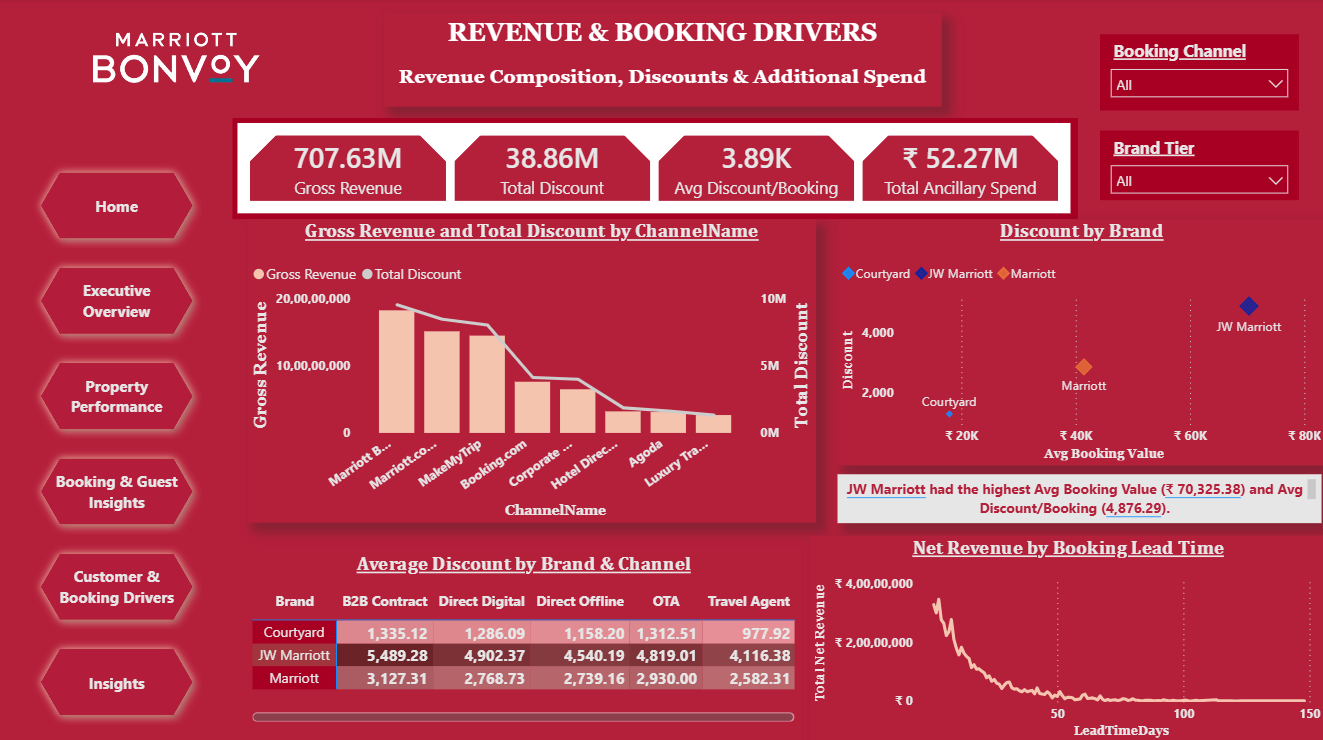

The dashboard page shown, as its layout file describes it:
{"tool":"powerbi","page":{"name":"Revenue & Booking Drivers","canvas":[1280,720],"ordinal":4},"visuals":[{"type":"textbox","box":[370.4,14.5,538.1,90.5],"z":0},{"type":"cardVisual","fields":{"Data":["_Measures.Gross Revenue","_Measures.Total Discount","_Measures.Average Discount per Booking","_Measures.Total Ancillary Spend"]},"box":[225,116.2,816.2,97.5],"z":1000},{"type":"scatterChart","title":"Discount by Brand","fields":{"X":["_Measures.Avg Booking Value"],"Y":["_Measures.Avg Discount/Booking"],"Size":["_Measures.Total Bookings"],"Series":["Dim_Properties.Brand"]},"box":[808.3,213.5,471.7,237.7],"z":2000},{"type":"textbox","box":[808.3,459.7,466.9,47.1],"z":3000},{"type":"lineClusteredColumnComboChart","fields":{"Category":["Dim_BookingChannels.ChannelName"],"Y":["_Measures.Gross Revenue"],"Y2":["_Measures.Total Discount"]},"box":[238.9,213.5,548.9,293.2],"z":4000},{"type":"pivotTable","title":"Average Discount by Brand & Channel","fields":{"Rows":["Dim_Properties.Brand"],"Columns":["Dim_BookingChannels.ChannelCategory"],"Values":["_Measures.Avg Discount/Booking"]},"box":[238.9,534.5,533.2,168.9],"z":5000},{"type":"slicer","fields":{"Values":["Dim_BookingChannels.ChannelCategory"]},"box":[1061.4,35.5,192,73.4],"z":6000},{"type":"slicer","fields":{"Values":["Dim_Properties.BrandTier"]},"box":[1061.4,128.4,192,67.3],"z":7000},{"type":"lineChart","title":"Net Revenue by Booking Lead Time","fields":{"Y":["_Measures.Total Net Revenue"],"Category":["Fact_Bookings.LeadTimeDays"]},"box":[781.8,518.8,498.3,200.3],"z":8000},{"type":"pageNavigator","box":[30.2,159.3,165.3,544.1],"z":9000},{"type":"image","box":[33.8,0,272.7,115.8],"z":10000}]}

Visuals, with their boxes in screenshot pixels (x1, y1, x2, y2), scaled from the page's 1280x720 canvas onto the 1323x740 screenshot:
textbox: select_region(383, 15, 939, 108)
cardVisual - _Measures.Gross Revenue x _Measures.Total Discount: select_region(233, 119, 1076, 220)
"Discount by Brand" scatterChart: select_region(835, 219, 1322, 464)
textbox: select_region(835, 472, 1318, 521)
lineClusteredColumnComboChart - Dim_BookingChannels.ChannelName x _Measures.Gross Revenue: select_region(247, 219, 814, 521)
"Average Discount by Brand & Channel" pivotTable: select_region(247, 549, 798, 723)
slicer - Dim_BookingChannels.ChannelCategory: select_region(1097, 36, 1296, 112)
slicer - Dim_Properties.BrandTier: select_region(1097, 132, 1296, 201)
"Net Revenue by Booking Lead Time" lineChart: select_region(808, 533, 1322, 739)
pageNavigator: select_region(31, 164, 202, 723)
image: select_region(35, 0, 317, 119)
